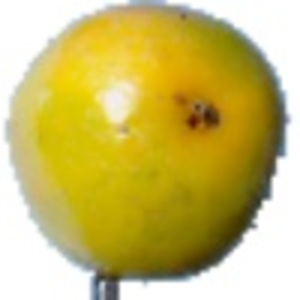maracujá: (6, 1, 294, 300)
